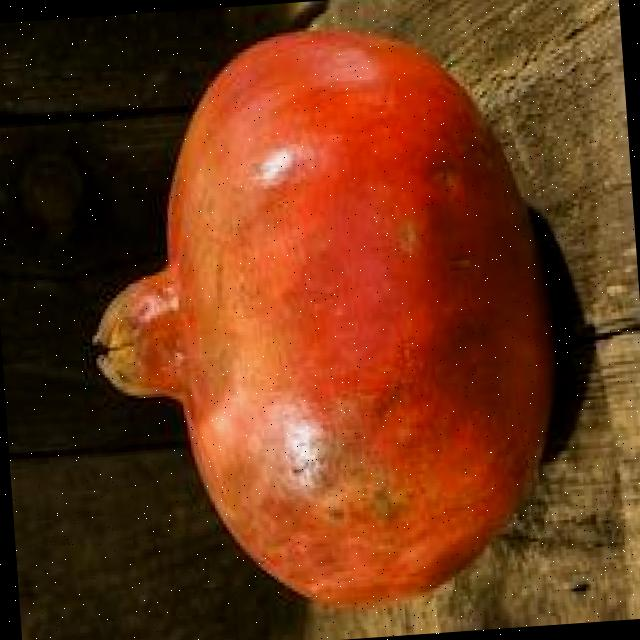Pomegranate: (75, 14, 580, 624)
